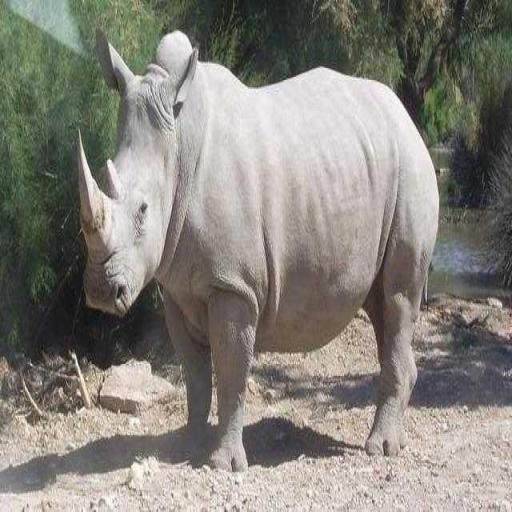Rhino: (75, 24, 440, 474)
